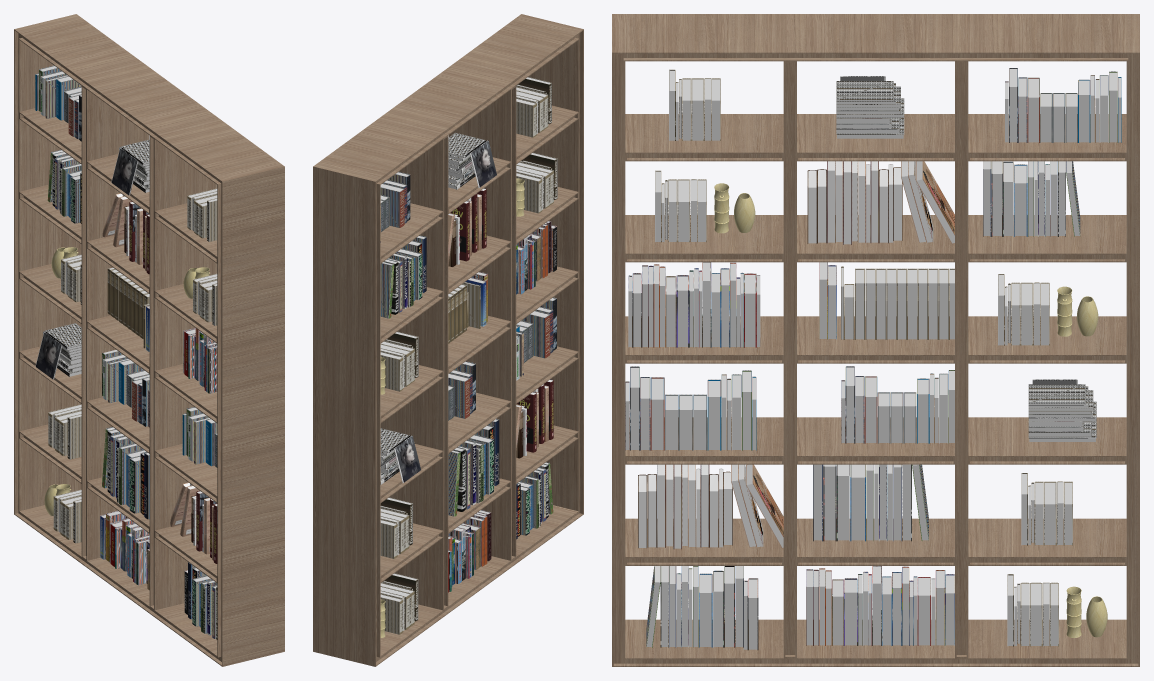
The picture shows the model from 3 angles, left to right: view 1: azimuth 30°, elevation 25°; view 2: azimuth 150°, elevation 25°; view 3: azimuth 270°, elevation 25°; orthographic projection. The views are drawn at different scales.
Parts seen in each view (by area): view 1: Group1, Model, Group4, Group5, Group3, VR0491, VR0491_1, Obj3d66_574185_81_613, Obj3d66_574185_490_783, VR0505, Obj3d66_574185_75_920, Obj3d66_574185_262_744 (+17 smaller); view 2: Group1, Model, Group4, Group5, Group3, Obj3d66_574185_257_656, VR0491_1, VR0491, Obj3d66_574185_276_909_1, Obj3d66_574185_485_123_1, Obj3d66_574185_276_909, Obj3d66_574185_79_104 (+22 smaller); view 3: Group1, Group5, Group3, Group4, Model, Obj3d66_574185_61_431_1, Obj3d66_574185_61_431, Obj3d66_574185_76_160, VR0505, VR0505_1, Obj3d66_574185_257_656, Obj3d66_574185_81_613 (+50 smaller).
Part boxes in pixels (left/top/right/bottom): Group1: left=14, top=14, right=284, bottom=666; Model: left=81, top=86, right=217, bottom=610; Group4: left=154, top=203, right=217, bottom=582; Group5: left=19, top=108, right=81, bottom=483; Group3: left=87, top=154, right=149, bottom=533; VR0491: left=35, top=332, right=62, bottom=379; VR0491_1: left=111, top=148, right=138, bottom=195; Obj3d66_574185_81_613: left=129, top=455, right=140, bottom=513; Obj3d66_574185_490_783: left=67, top=414, right=81, bottom=459; VR0505: left=44, top=323, right=81, bottom=348; Obj3d66_574185_75_920: left=119, top=443, right=143, bottom=505; Obj3d66_574185_262_744: left=194, top=417, right=209, bottom=464; Group1: left=313, top=14, right=583, bottom=666; Model: left=380, top=86, right=516, bottom=610; Group4: left=516, top=105, right=578, bottom=483; Group5: left=380, top=203, right=443, bottom=582; Group3: left=448, top=157, right=510, bottom=533; Obj3d66_574185_257_656: left=522, top=310, right=550, bottom=358; VR0491_1: left=470, top=140, right=496, bottom=187; VR0491: left=394, top=435, right=420, bottom=482; Obj3d66_574185_276_909_1: left=380, top=183, right=404, bottom=227; Obj3d66_574185_485_123_1: left=516, top=98, right=536, bottom=137; Obj3d66_574185_276_909: left=448, top=373, right=469, bottom=418; Obj3d66_574185_79_104: left=448, top=450, right=460, bottom=516; Group1: left=612, top=14, right=1139, bottom=666; Group5: left=968, top=114, right=1126, bottom=565; Group3: left=797, top=114, right=954, bottom=565; Group4: left=625, top=114, right=783, bottom=565; Model: left=783, top=61, right=968, bottom=658; Obj3d66_574185_61_431_1: left=915, top=161, right=954, bottom=243; Obj3d66_574185_61_431: left=746, top=464, right=783, bottom=548; Obj3d66_574185_76_160: left=850, top=464, right=865, bottom=541; VR0505: left=1028, top=384, right=1085, bottom=404; VR0505_1: left=836, top=81, right=893, bottom=101; Obj3d66_574185_257_656: left=650, top=377, right=664, bottom=450; Obj3d66_574185_81_613: left=836, top=464, right=849, bottom=541.
Bounding box in the file's own units: 369 × 2600 × 2024.
